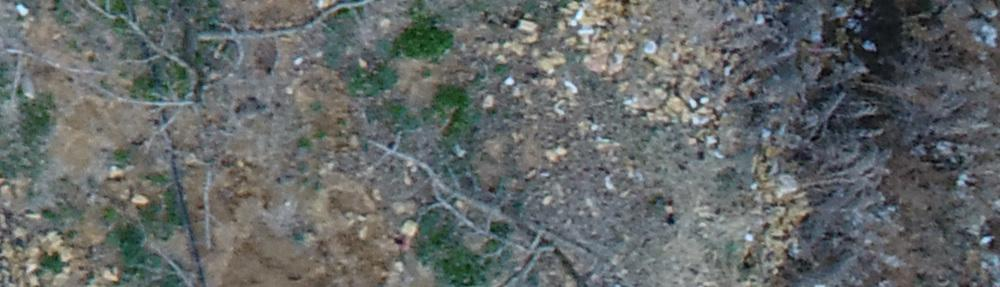apple: (11, 10, 383, 212)
